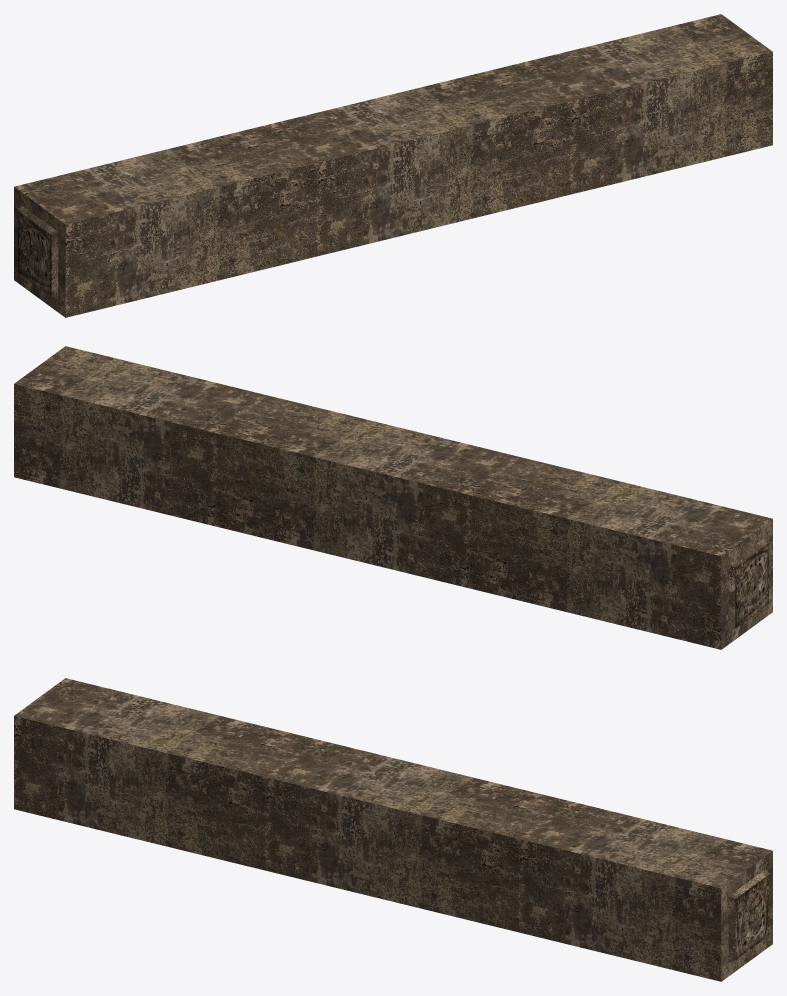
Rendered from materials_5_stonestick_middle_0.fbx.
3 views of the same model, one above another, from view 1: azimuth 30°, elevation 25°; view 2: azimuth 150°, elevation 25°; view 3: azimuth 330°, elevation 25° (orthographic).
Visible parts, largest first — view 1: materials_5_stonestick_middle_0; view 2: materials_5_stonestick_middle_0; view 3: materials_5_stonestick_middle_0.
Boxes of the visible parts, box(x1,y1,x2,y2) form: materials_5_stonestick_middle_0: box(14, 14, 772, 317); materials_5_stonestick_middle_0: box(14, 346, 772, 649); materials_5_stonestick_middle_0: box(14, 678, 772, 981).
Size of the model in its own units: 175 by 21.75 by 21.75.
